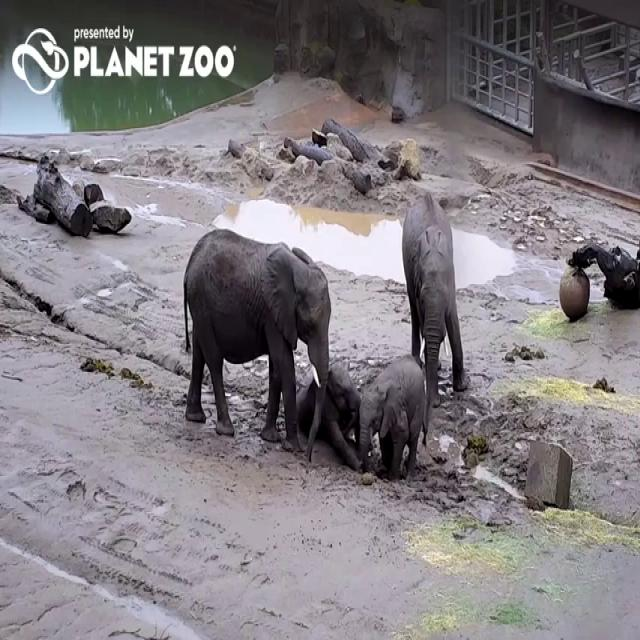Elephant: (182, 227, 331, 456), (401, 189, 467, 435), (357, 354, 426, 482), (294, 362, 362, 470)
